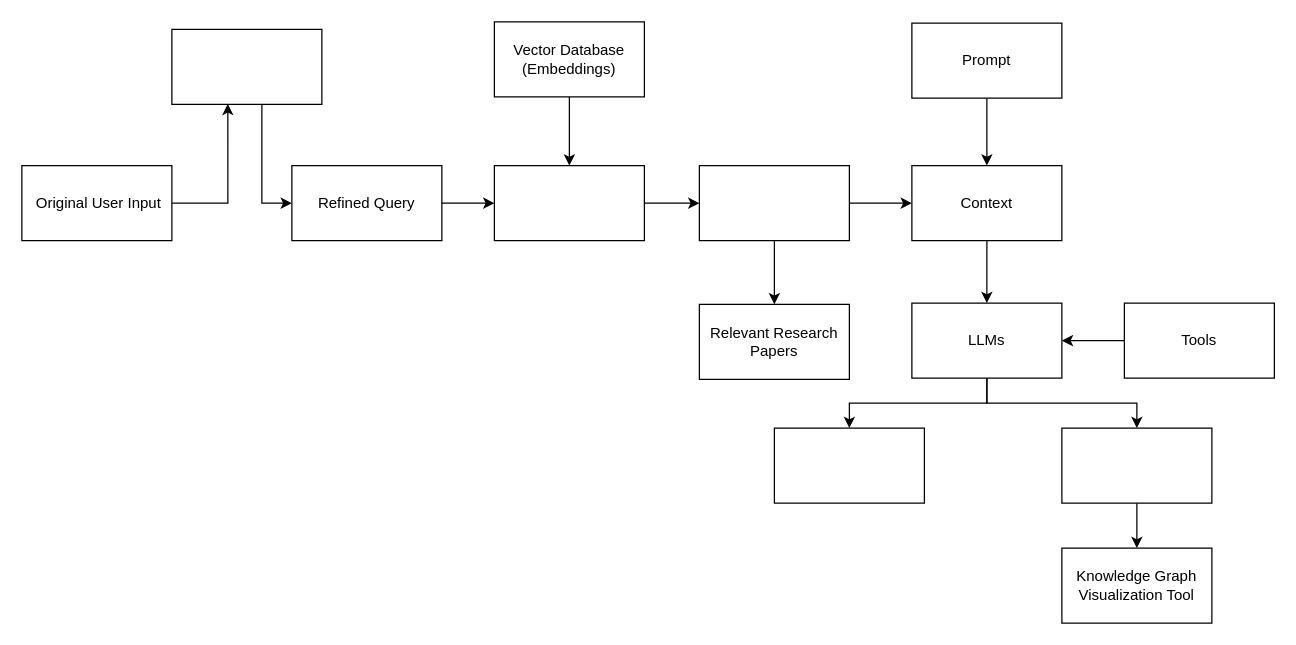
Image size: 1296x645. Some labels were removed from this diagram. Each missing label, with the centre of its shape:
Context Aware Chatbot: pixel 848 465
Nodes & Edges Dataset: pixel 1136 465
Retriever: pixel 568 202
Scientific Topic Extraction Model: pixel 246 66
Top k similar documents: pixel 773 202
